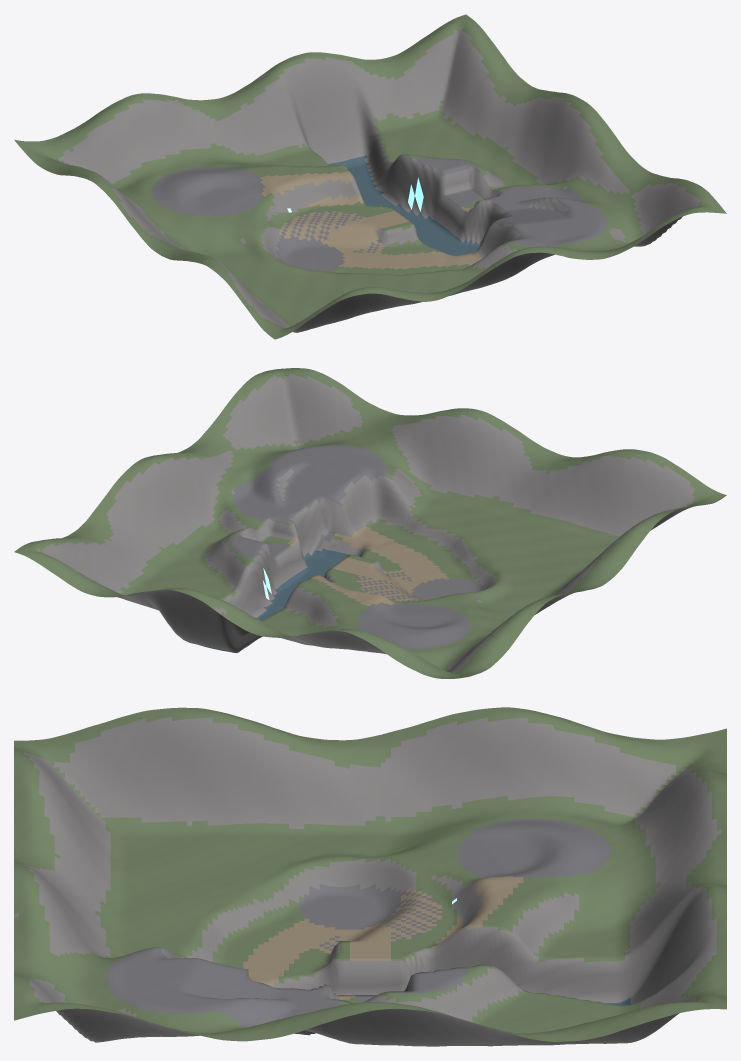
Rendered from aether_crown_terrain_foundation.glb.
3 views of the same model, one above another, from view 1: azimuth 30°, elevation 25°; view 2: azimuth 150°, elevation 25°; view 3: azimuth 270°, elevation 25° (orthographic). The views are drawn at different scales.
Parts seen in each view (by area): view 1: AetherCrown_Terrain_Foundation; view 2: AetherCrown_Terrain_Foundation; view 3: AetherCrown_Terrain_Foundation.
Boxes of the visible parts, <box> form: AetherCrown_Terrain_Foundation: <box>14,14,726,339</box>; AetherCrown_Terrain_Foundation: <box>14,368,726,678</box>; AetherCrown_Terrain_Foundation: <box>14,707,726,1046</box>.
Bounding box in the file's own units: 140 × 25.74 × 140.
